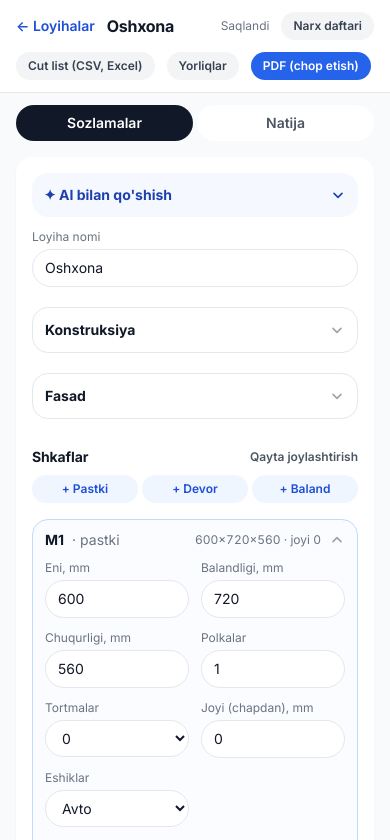
Test: MebelProjectPage review fixes › the price book dialog shows the saved prices even when they arrive after the page
What coordinates should you click on to do the following:
click the button "Narx daftari"
I would click on:
 (328, 26)
Its box is 281,12 -> 374,40.
(page scrolled)
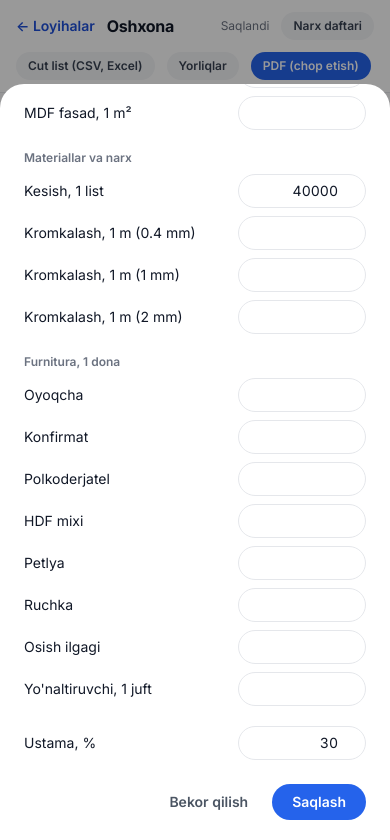
Expected: the number field showing "40000" is shown, 238,174 -> 366,208
Expected: the number field showing "30" is shown, 238,726 -> 366,760
